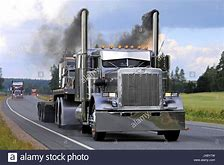smoke: (123, 8, 158, 42), (57, 8, 87, 45)
